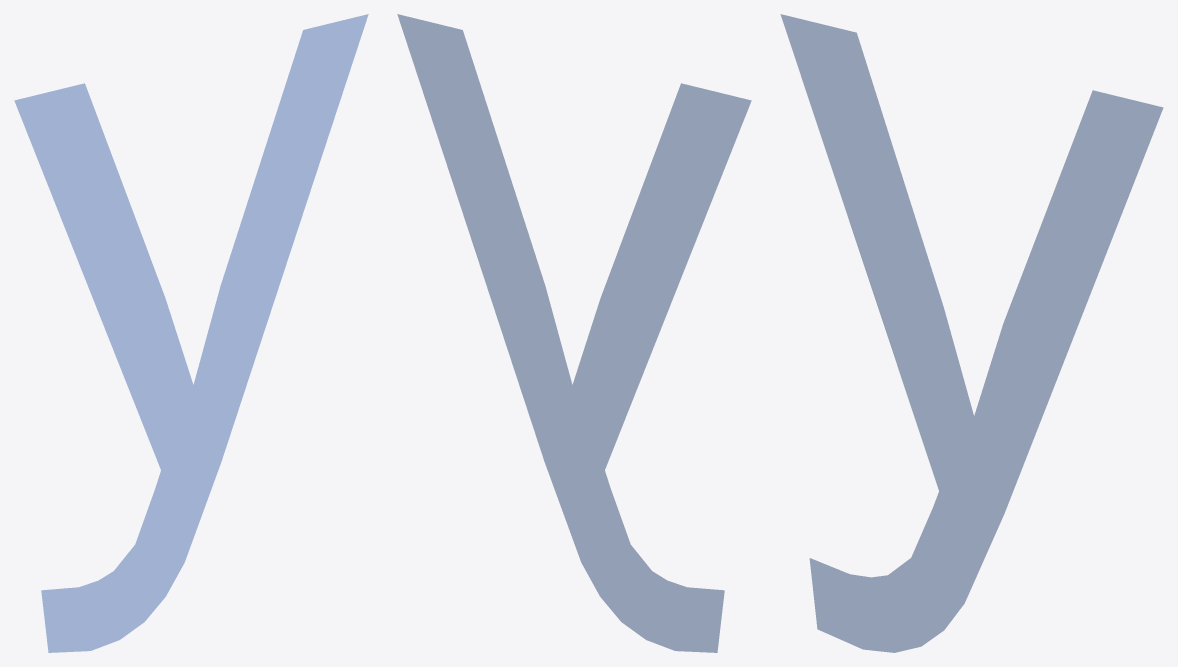
The model's file is original-59.obj.
3 views of the same model, side by side, from view 1: azimuth 30°, elevation 25°; view 2: azimuth 150°, elevation 25°; view 3: azimuth 330°, elevation 25° (orthographic). The views are drawn at different scales.
Visible parts, largest first — view 1: mesh48/mesh48-geometry#mesh48-geometry; view 2: mesh48/mesh48-geometry#mesh48-geometry; view 3: mesh48/mesh48-geometry#mesh48-geometry.
Boxes of the visible parts, x1,y1,x2,y2 form: mesh48/mesh48-geometry#mesh48-geometry: (14, 14, 368, 652); mesh48/mesh48-geometry#mesh48-geometry: (397, 14, 751, 652); mesh48/mesh48-geometry#mesh48-geometry: (780, 14, 1163, 652).
Size of the model in its own units: 0.0227 by 0.0349 by 0.
